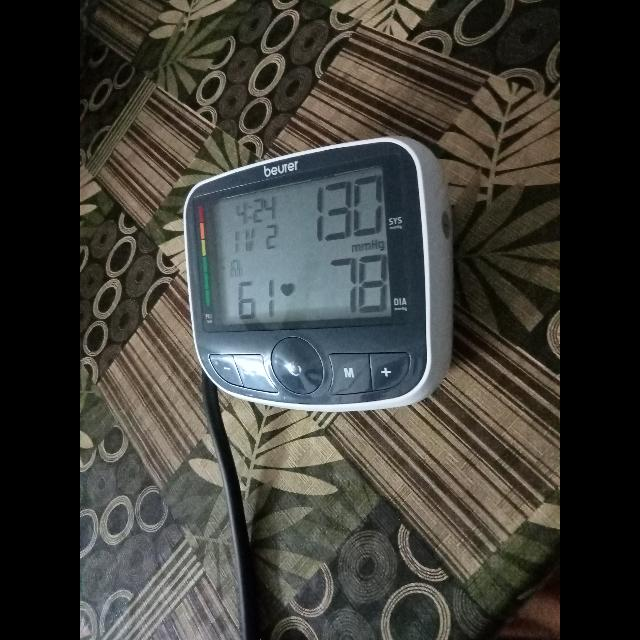Blood-Pressure-Monitor: (182, 133, 456, 413)
